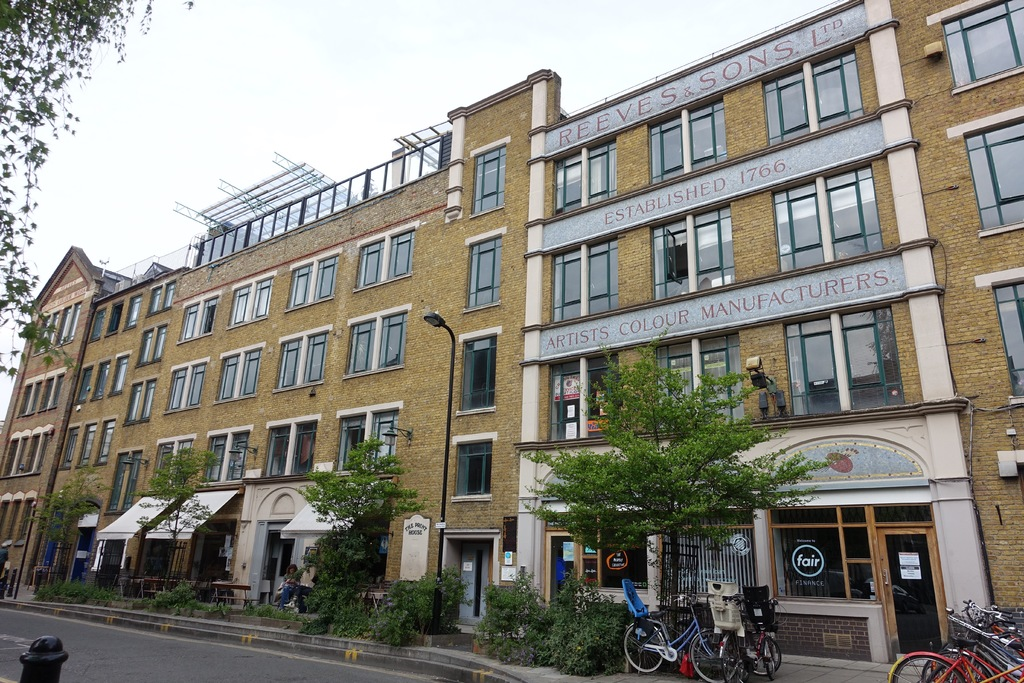Tree: (506, 338, 844, 595), (0, 0, 208, 386), (263, 435, 418, 586), (128, 451, 215, 599), (10, 467, 98, 609)
